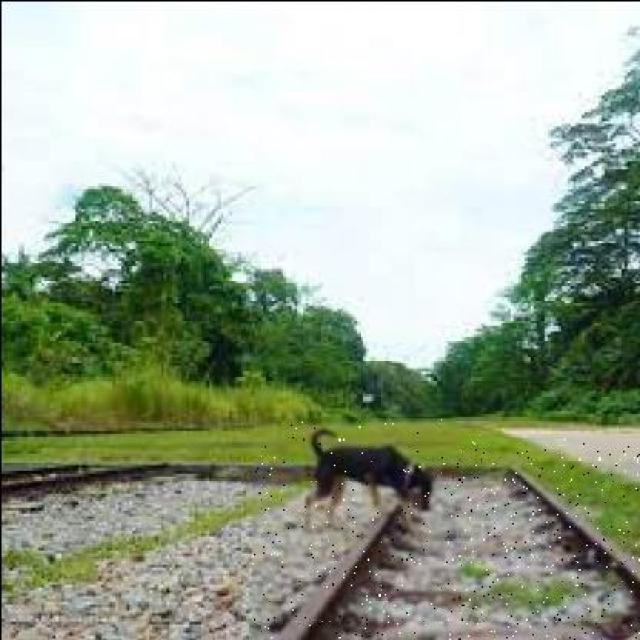rail: (252, 438, 640, 640)
